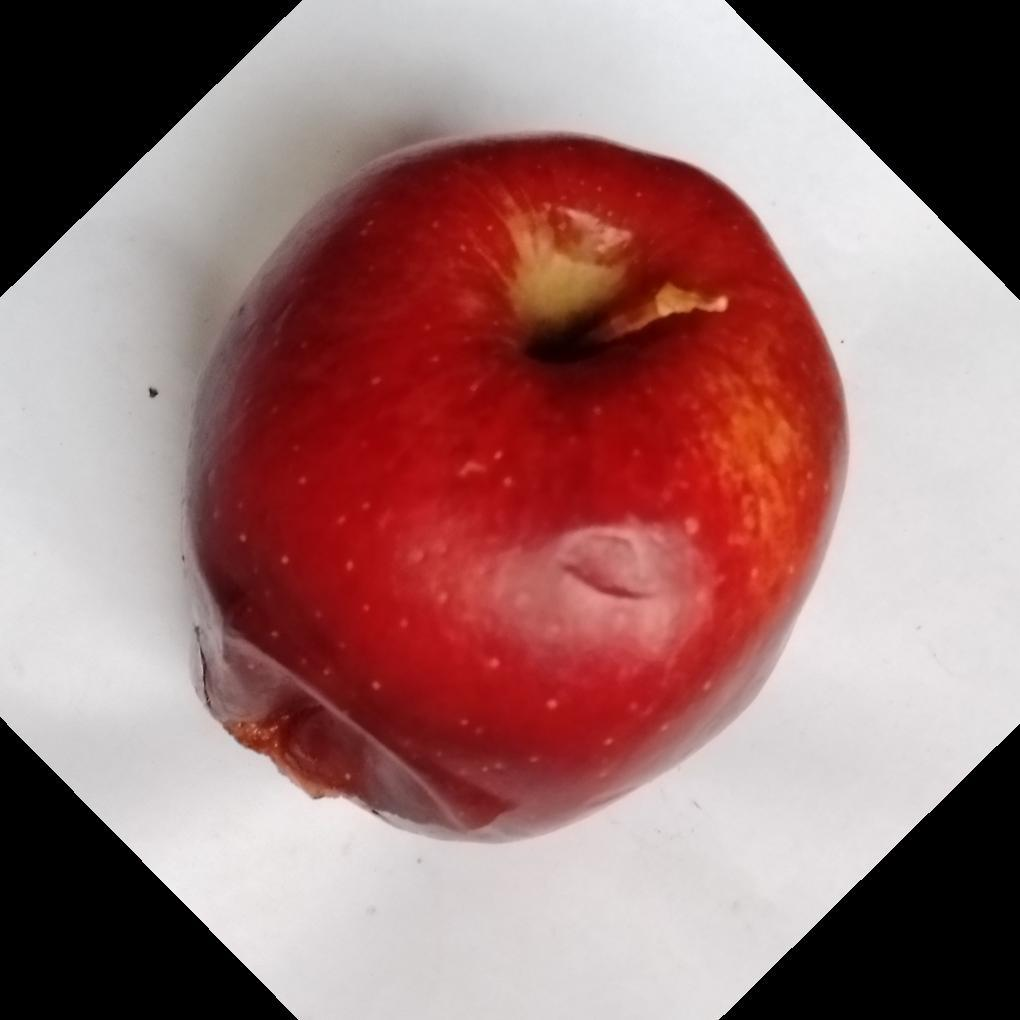FreshOrange: (180, 133, 852, 850)
